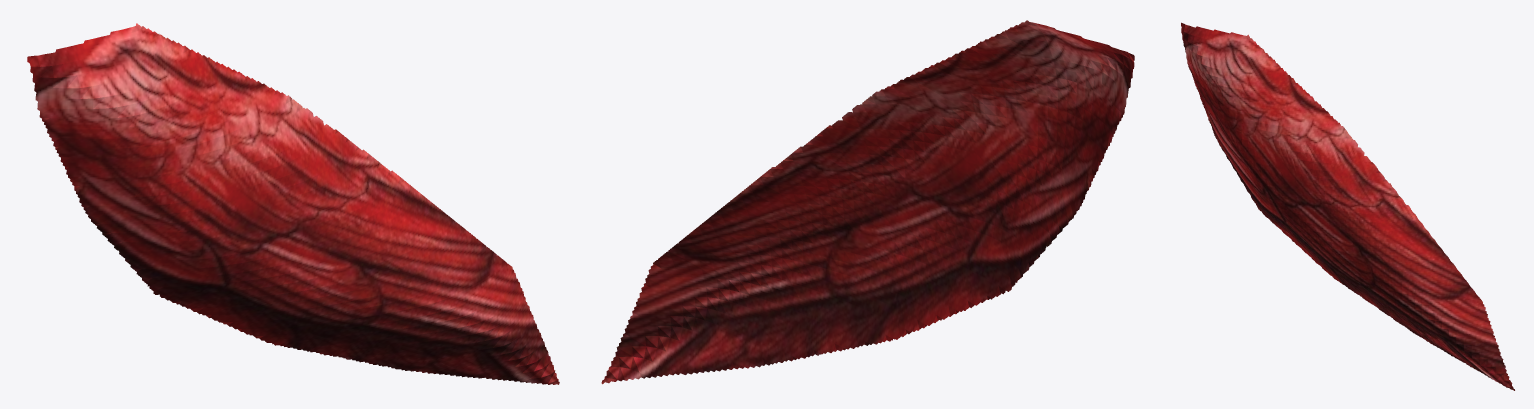
Rendered from subject_wing_dorsal.obj.
3 renders of one model, left to right at view 1: azimuth 30°, elevation 25°; view 2: azimuth 150°, elevation 25°; view 3: azimuth 330°, elevation 25°, orthographic. The views are drawn at different scales.
Visible parts, largest first — view 1: subject_wing_dorsal; view 2: subject_wing_dorsal; view 3: subject_wing_dorsal.
Part boxes in pixels (x1,y1,x2,y2): subject_wing_dorsal: [27, 23, 559, 384]; subject_wing_dorsal: [601, 20, 1134, 384]; subject_wing_dorsal: [1181, 22, 1514, 390].
Bounding box in the file's own units: 1.11 × 0.9167 × 0.0893.
Materials: 1 (1 with a texture image).
